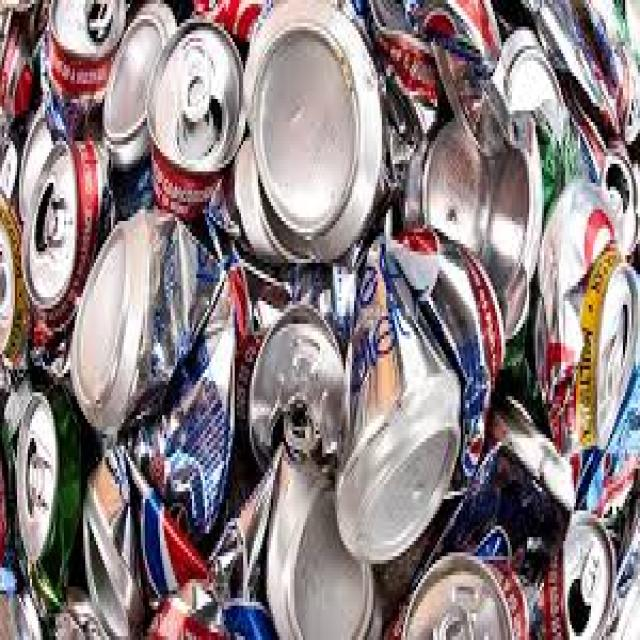metal: (241, 0, 504, 248), (200, 0, 439, 251), (68, 202, 235, 545), (331, 221, 501, 556), (369, 431, 561, 636), (399, 111, 540, 377), (203, 0, 324, 282), (211, 438, 382, 636), (531, 176, 638, 454), (229, 259, 357, 476), (79, 450, 220, 636), (145, 8, 258, 217), (19, 134, 111, 355), (11, 378, 81, 633), (98, 0, 181, 213), (520, 0, 638, 141), (493, 31, 565, 210), (41, 0, 128, 141), (550, 507, 638, 636), (0, 0, 49, 118), (0, 191, 28, 370)
